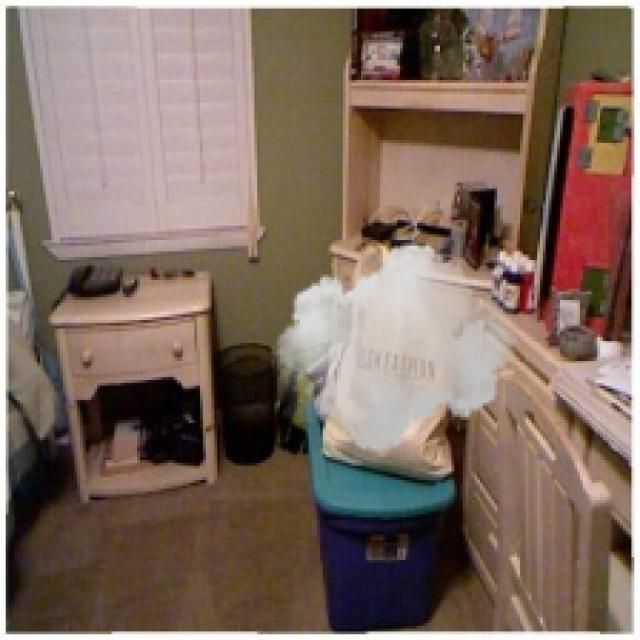smoke: (271, 234, 520, 460)
